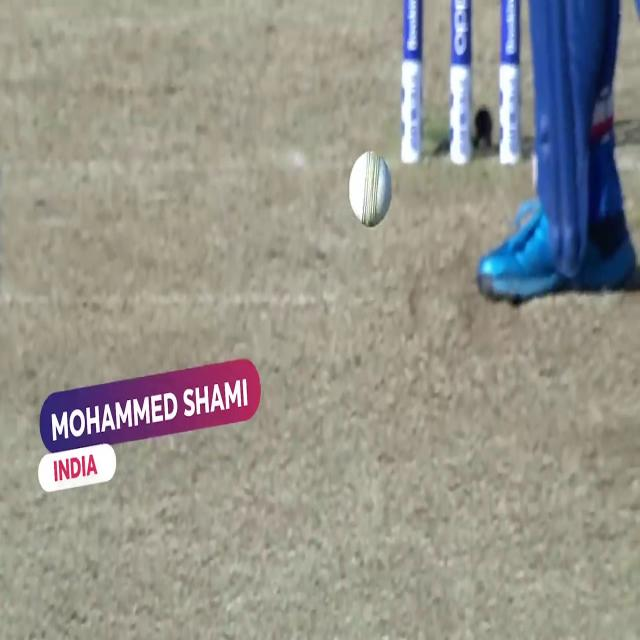ball: (344, 146, 398, 234)
